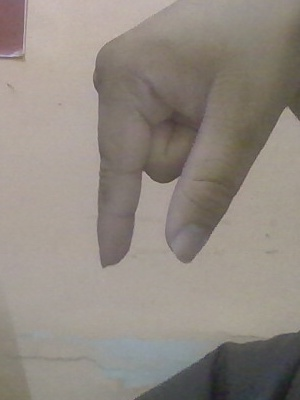Q: (91, 1, 299, 277)
